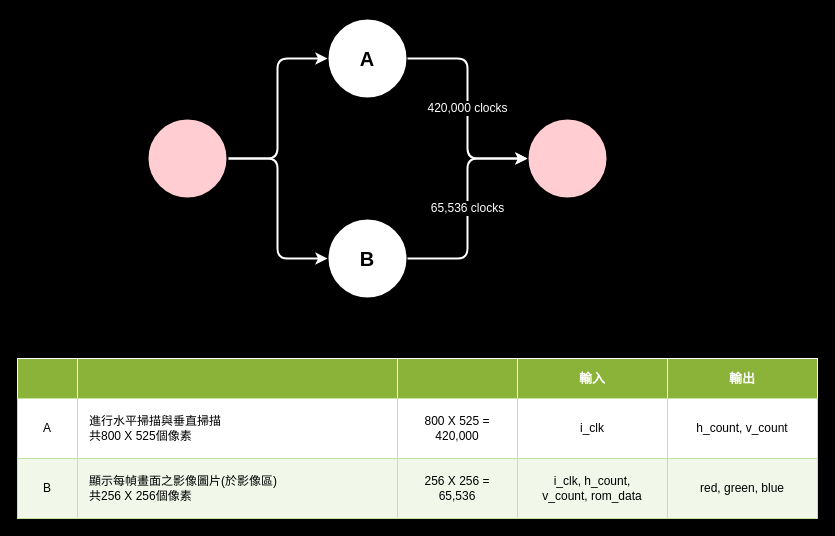
Some shapes in this 835 by 536 pixel diagram are drawn without their labels. The shapes that lost their labels are listed below. From the top down, each one's centre as x and y in pixels, then its label:
At point (187, 158): "start".
At point (567, 158): "end".
At point (47, 378): "動作".
At point (237, 378): "動作說明".
At point (457, 378): "時間(clocks)".
